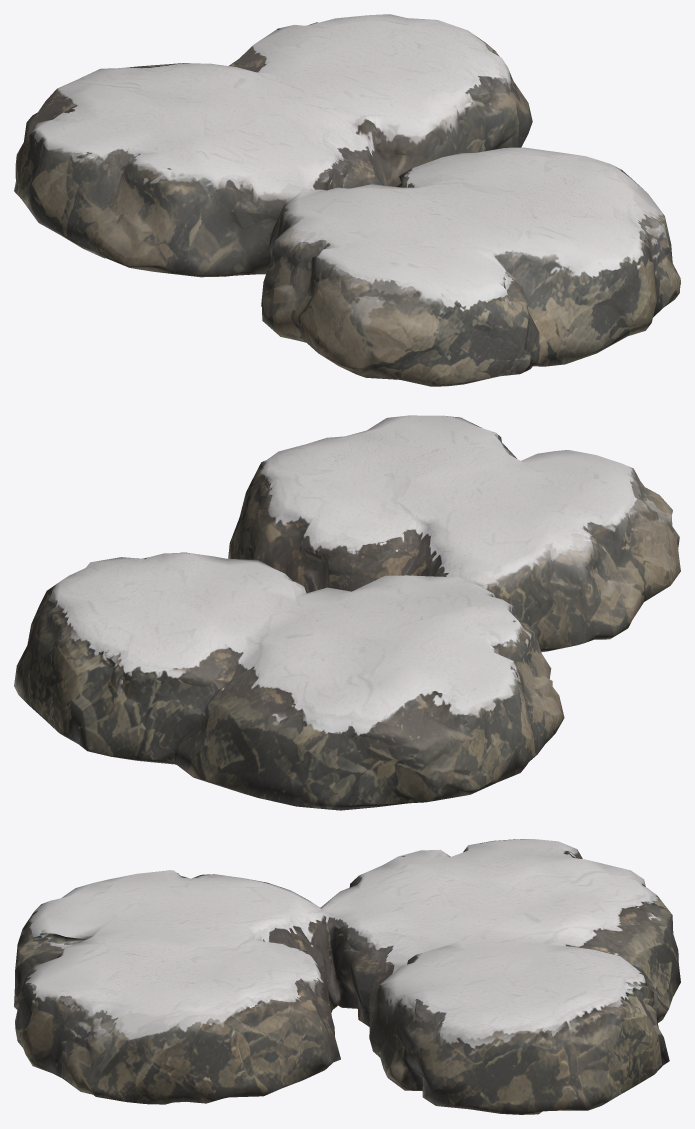
Rendered from PR_FlatRocks_Snow.fbx.
3 views of the same model, one above another, from view 1: azimuth 30°, elevation 25°; view 2: azimuth 150°, elevation 25°; view 3: azimuth 270°, elevation 25° (orthographic). The views are drawn at different scales.
Parts seen in each view (by area): view 1: texture_mapping; view 2: texture_mapping; view 3: texture_mapping.
Boxes of the visible parts, x1,y1,x2,y2 form: texture_mapping: [14, 14, 680, 386]; texture_mapping: [14, 415, 680, 810]; texture_mapping: [14, 839, 680, 1114].
Size of the model in its own units: 0.7633 by 0.9969 by 0.1701.
1 material, 1 textured.
